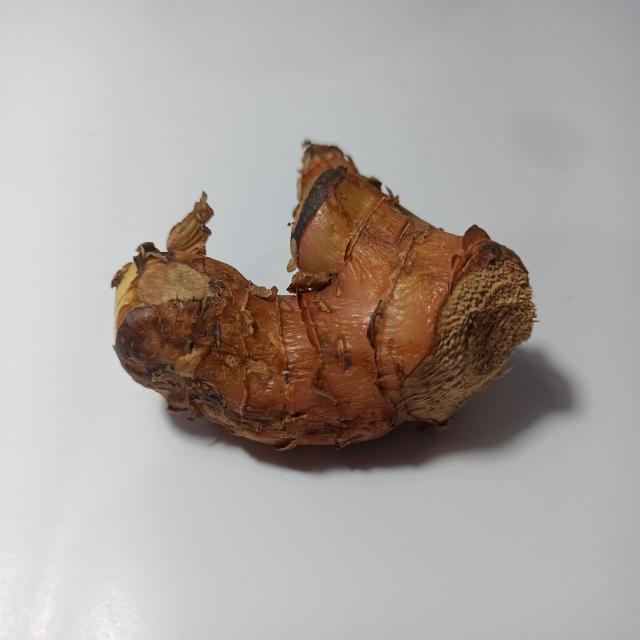ginger: (107, 152, 514, 464)
